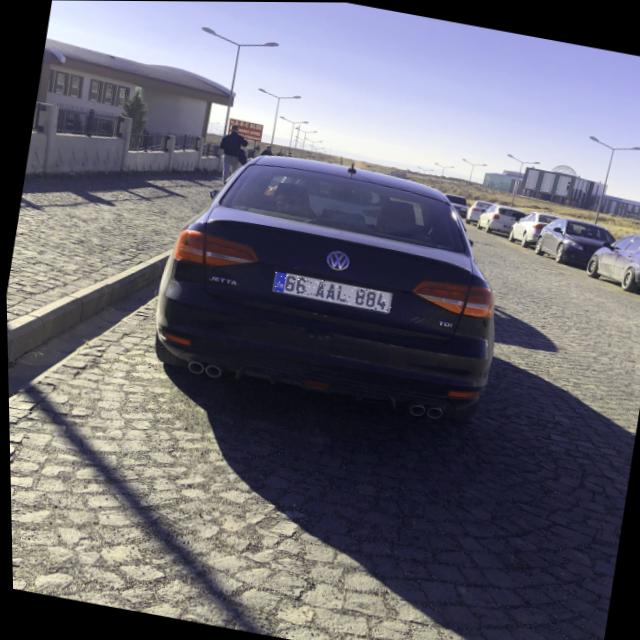license_plate: (270, 271, 392, 312)
